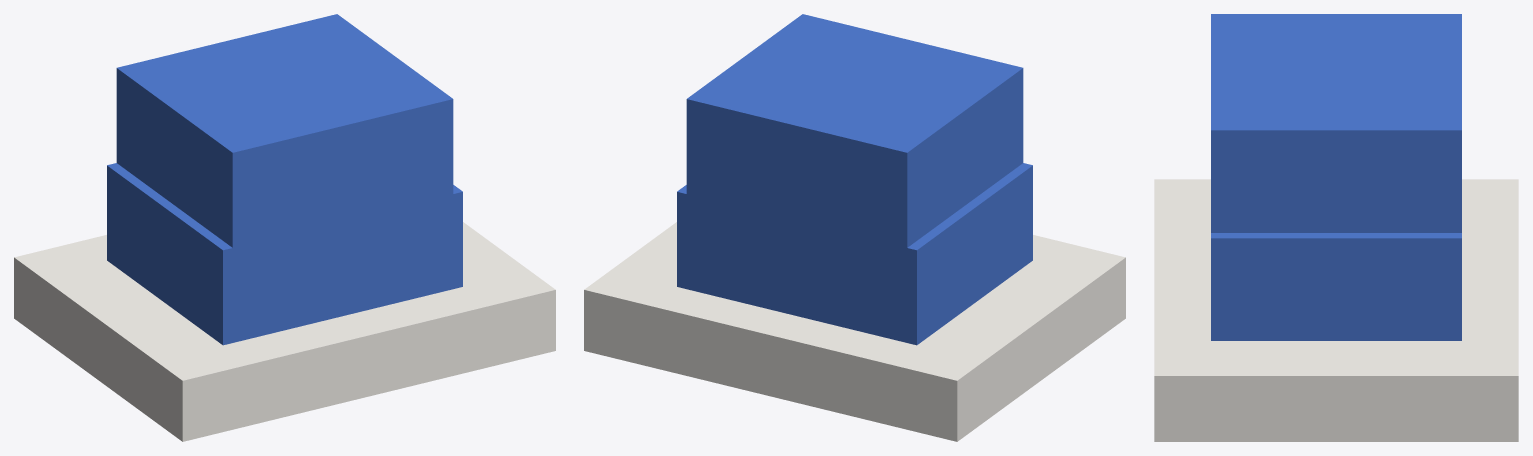
The model's file is bookshelf-lv2.glb.
3 views of the same model, side by side, from view 1: azimuth 30°, elevation 25°; view 2: azimuth 150°, elevation 25°; view 3: azimuth 270°, elevation 25° (orthographic). The views are drawn at different scales.
Parts seen in each view (by area): view 1: Level2, Base, Level1; view 2: Level2, Base, Level1; view 3: Base, Level2, Level1.
Part boxes in pixels (bbox=[...]): Level2: bbox=[116, 14, 453, 247]; Base: bbox=[14, 222, 555, 441]; Level1: bbox=[107, 163, 462, 345]; Level2: bbox=[686, 14, 1023, 247]; Base: bbox=[584, 222, 1125, 441]; Level1: bbox=[677, 163, 1032, 345]; Base: bbox=[1154, 179, 1518, 441]; Level2: bbox=[1211, 14, 1461, 232]; Level1: bbox=[1211, 233, 1461, 340].
Size of the model in its own units: 1.15 by 0.74 by 0.9.
